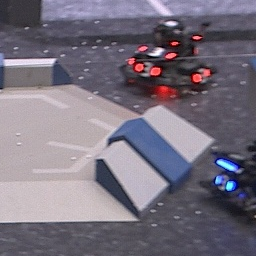Blue: (214, 174, 234, 193)
Red: (137, 43, 176, 59), (135, 61, 160, 79), (189, 66, 212, 84)
Robot: (120, 19, 217, 93), (202, 140, 256, 220)
